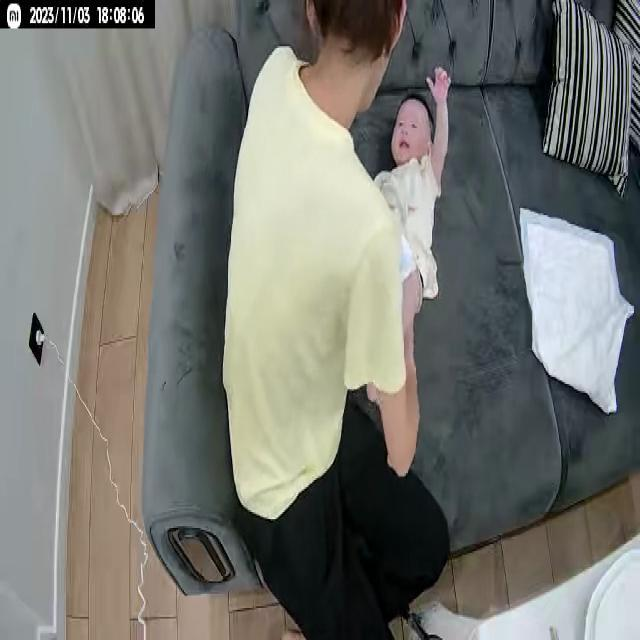baby: (360, 64, 454, 398)
